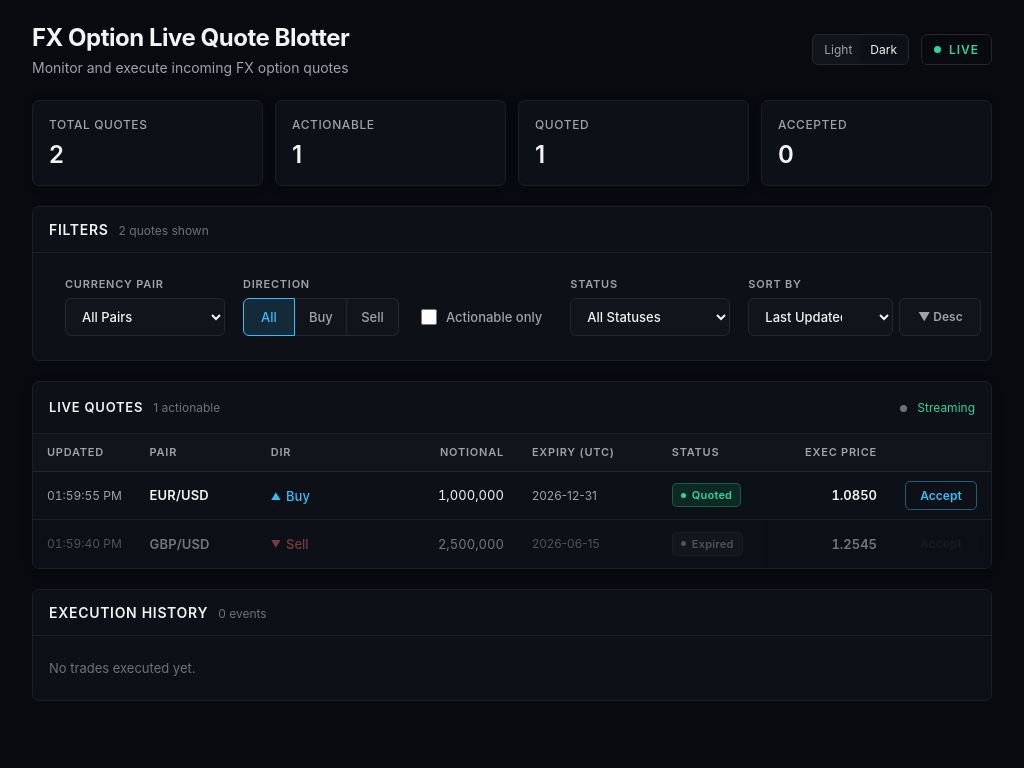
BlotterApp Integration Tests › "Actionable only" filter cleanly isolates active quotes
Click the checkbox labelled "Actionable only" at x=429, y=317, box [421, 309, 437, 325]
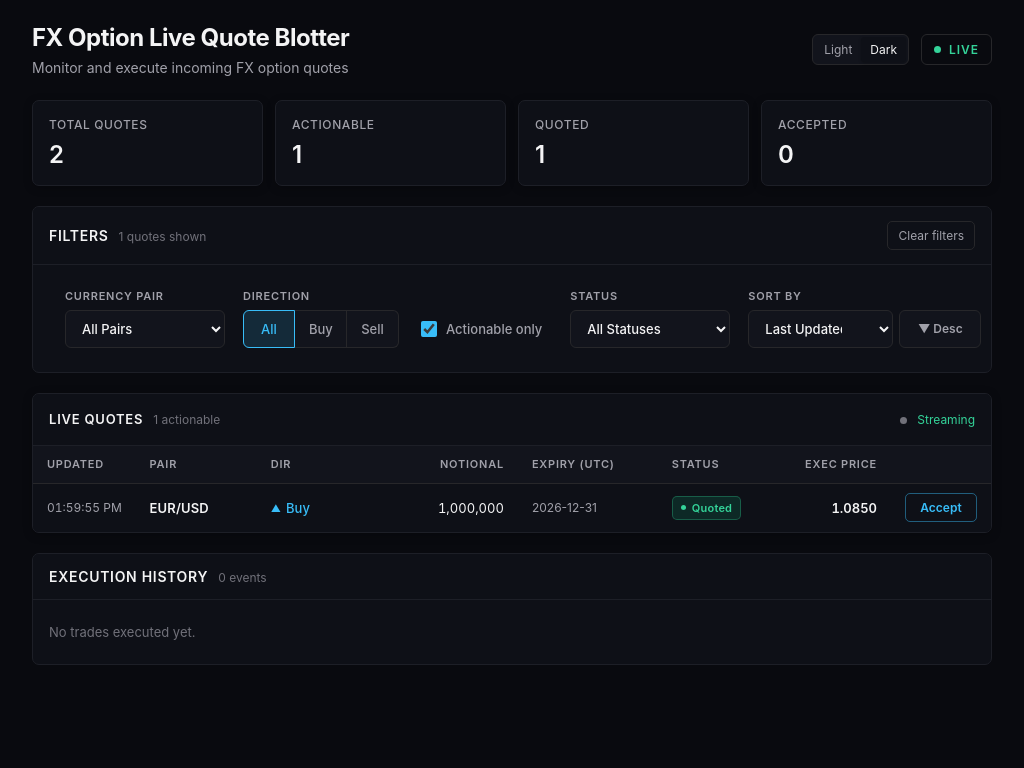
Expected: the text "EUR/USD" is shown, [136, 484, 257, 532]
Expected: the text "GBP/USD" is gone
